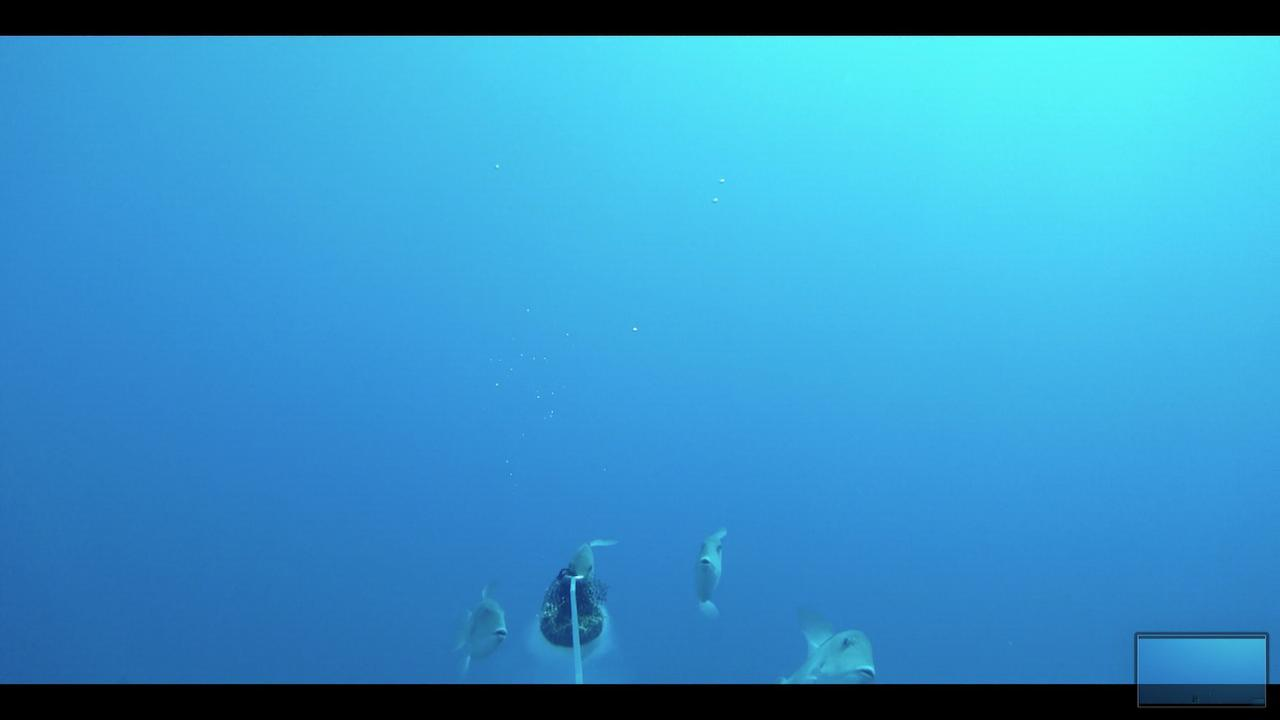balistes: (762, 617, 894, 683), (440, 582, 518, 677), (679, 520, 735, 621)
